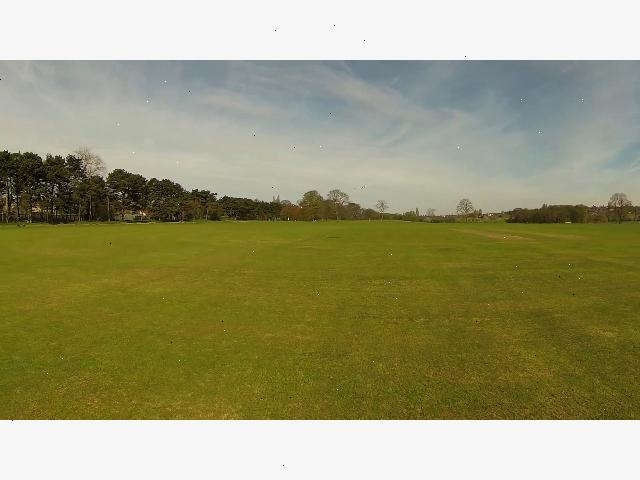Anti-Drone: (350, 174, 380, 196)
